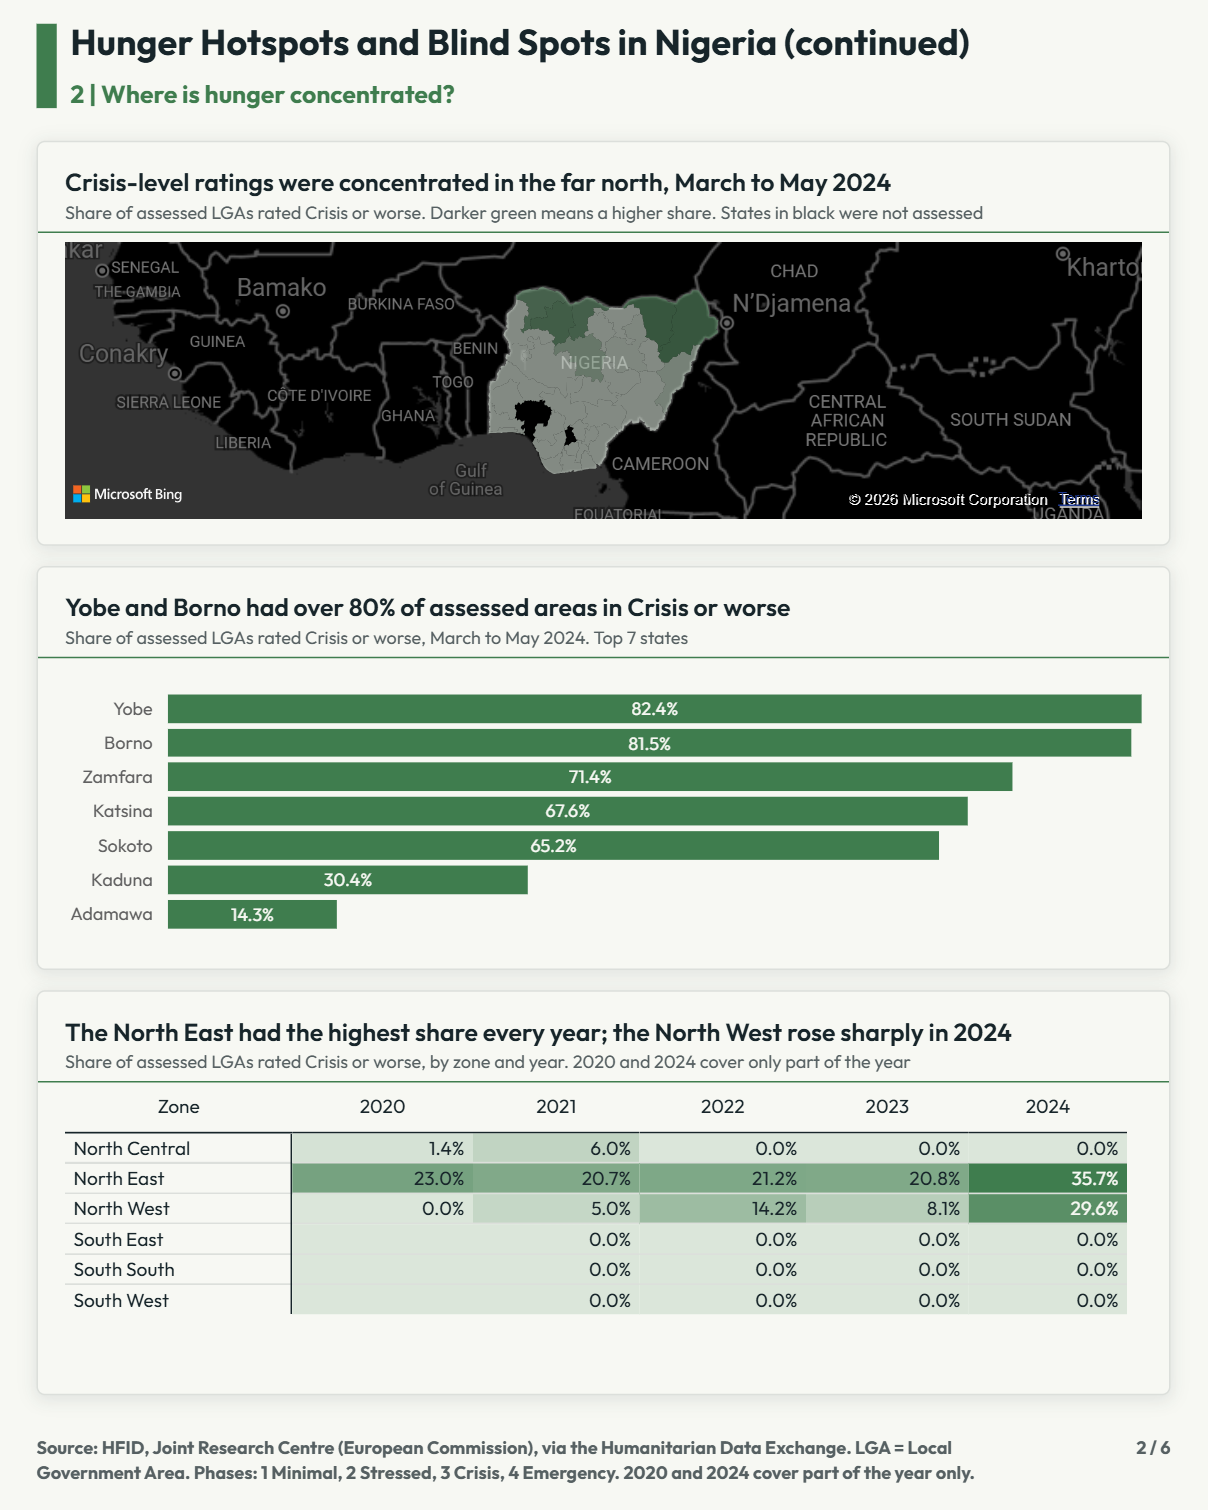

The dashboard page shown, as its layout file describes it:
{"tool":"powerbi","page":{"name":"2. Where","canvas":[720,900],"ordinal":1},"visuals":[{"type":"shape","box":[24,15,12,50],"z":0},{"type":"textbox","box":[44,12,652,32],"z":1000},{"type":"textbox","box":[44,46,460,24],"z":2000},{"type":"textbox","box":[24,850,596,30],"z":3000},{"type":"textbox","box":[636,850,60,18],"z":4000},{"type":"filledMap","title":"Crisis-level ratings were concentrated in the far north, March to May 2024","fields":{"Category":["Hunger.Country","Hunger.State"]},"box":[24,84,672,240],"z":5000},{"type":"clusteredBarChart","title":"Yobe and Borno had over 80% of assessed areas in Crisis or worse","fields":{"Category":["Hunger.State"],"Y":["_Measures.CH P3+ Share"]},"box":[24,336,672,240],"z":6000},{"type":"pivotTable","title":"The North East had the highest share every year; the North West rose sharply in 2024","fields":{"Columns":["Dates.Year"],"Rows":["Hunger.Zone"],"Values":["_Measures.CH P3+ Share"]},"box":[24,588,672,240],"z":7000}]}

Visuals, with their boxes in screenshot pixels (x1, y1, x2, y2), scaled from the page's 720x900 canvas onto the 1208x1510 screenshot:
shape: (left=40, top=25, right=60, bottom=109)
textbox: (left=74, top=20, right=1168, bottom=74)
textbox: (left=74, top=77, right=846, bottom=117)
textbox: (left=40, top=1426, right=1040, bottom=1476)
textbox: (left=1067, top=1426, right=1168, bottom=1456)
"Crisis-level ratings were concentrated in the far north, March to May 2024" filledMap: (left=40, top=141, right=1168, bottom=544)
"Yobe and Borno had over 80% of assessed areas in Crisis or worse" clusteredBarChart: (left=40, top=564, right=1168, bottom=966)
"The North East had the highest share every year; the North West rose sharply in 2024" pivotTable: (left=40, top=987, right=1168, bottom=1389)
